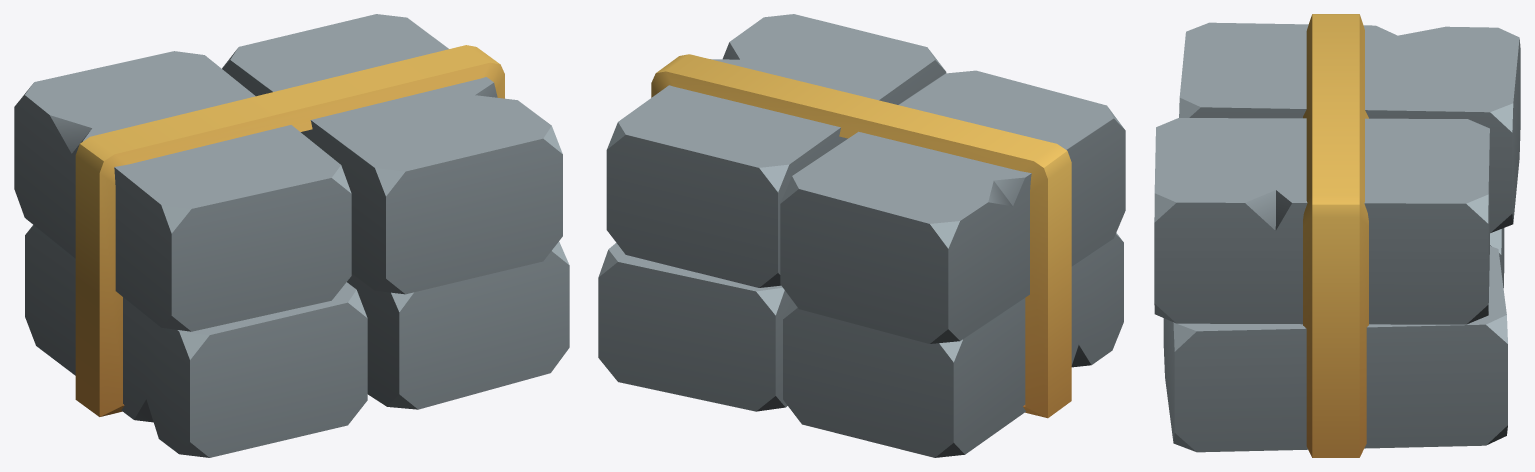
The model's file is Stone_Bricks_Stack_Small.glb.
The picture shows the model from 3 angles, left to right: view 1: azimuth 30°, elevation 25°; view 2: azimuth 150°, elevation 25°; view 3: azimuth 270°, elevation 25°; orthographic projection. The views are drawn at different scales.
Visible parts, largest first — view 1: Stone_Bricks_Stack_Small; view 2: Stone_Bricks_Stack_Small; view 3: Stone_Bricks_Stack_Small.
Boxes of the visible parts, x1,y1,x2,y2 form: Stone_Bricks_Stack_Small: (14, 14, 569, 457); Stone_Bricks_Stack_Small: (598, 14, 1125, 457); Stone_Bricks_Stack_Small: (1154, 14, 1520, 457).
Size of the model in its own units: 1.04 by 0.6332 by 0.8222.
1 material, 1 textured.
